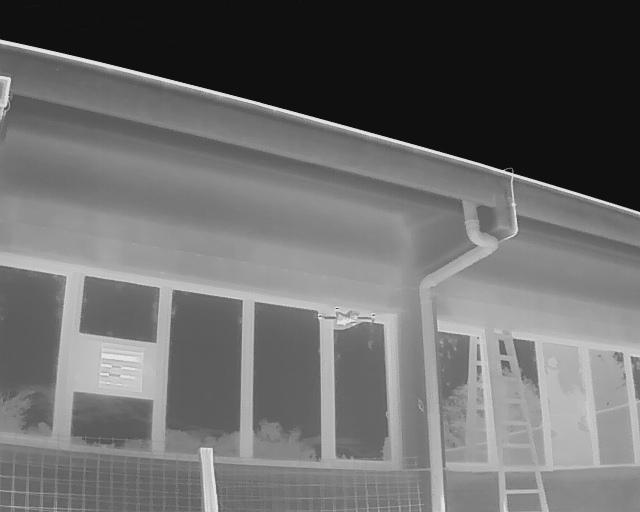drone: (308, 295, 380, 337)
